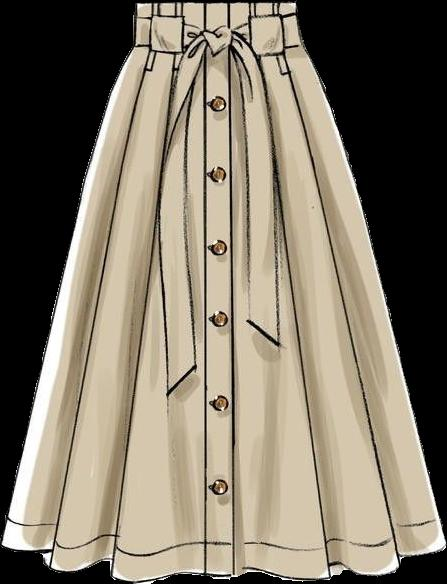Hemline: (0, 539, 446, 583)
Waistline: (133, 0, 298, 10)
